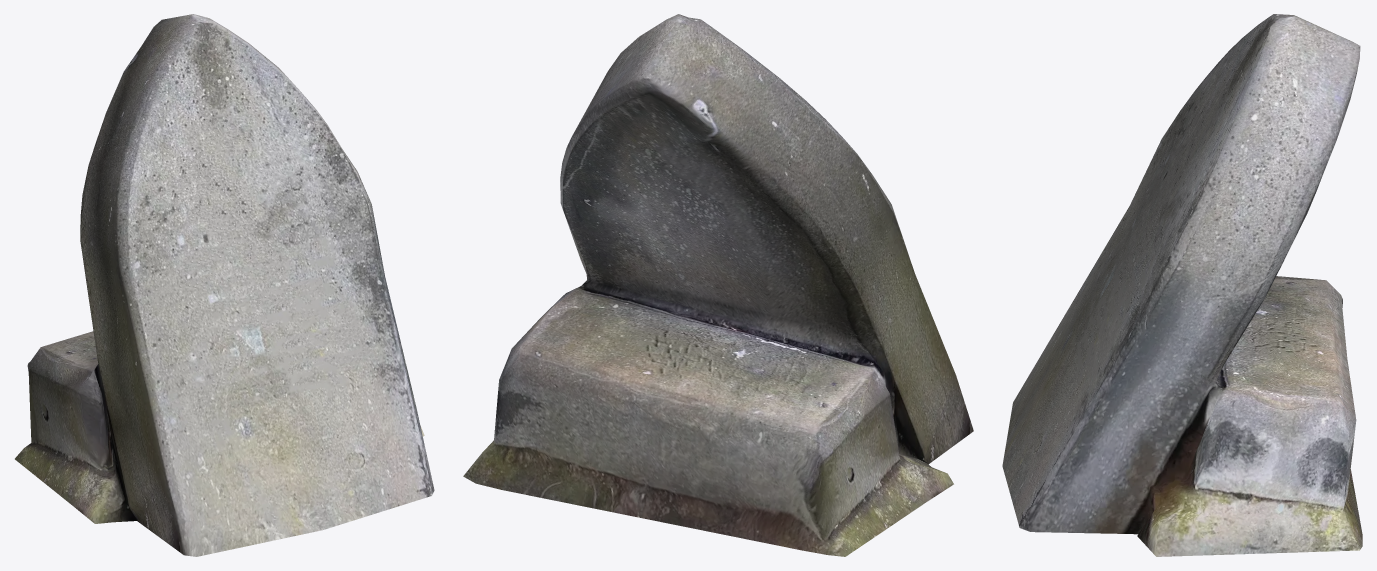
The model's file is sketchfab-small-gravestone-drydoctoregg.glb.
3 renders of one model, left to right at view 1: azimuth 30°, elevation 25°; view 2: azimuth 150°, elevation 25°; view 3: azimuth 270°, elevation 25°, orthographic. The views are drawn at different scales.
Parts seen in each view (by area): view 1: defaultMaterial; view 2: defaultMaterial; view 3: defaultMaterial.
Boxes of the visible parts, bbox=[...] form: defaultMaterial: bbox=[15, 14, 434, 556]; defaultMaterial: bbox=[463, 14, 973, 556]; defaultMaterial: bbox=[1002, 14, 1362, 556].
Bounding box in the file's own units: 59.22 × 69.81 × 50.26.
Materials: 1 (1 with a texture image).
